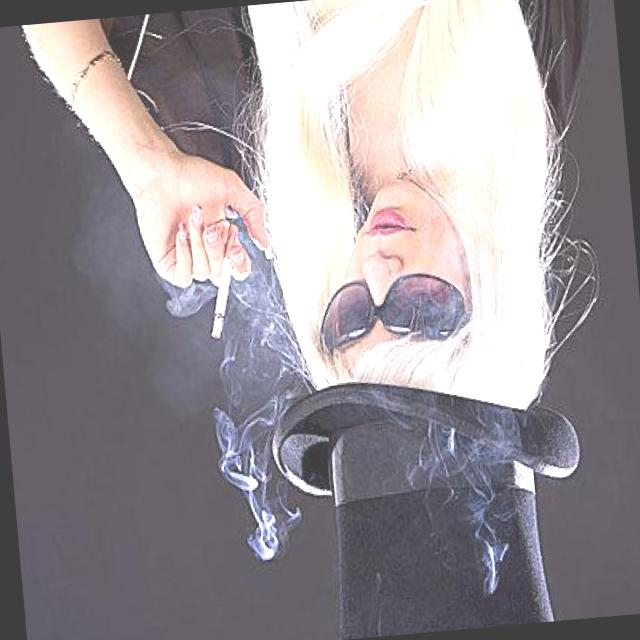cigarette: (199, 220, 250, 342)
